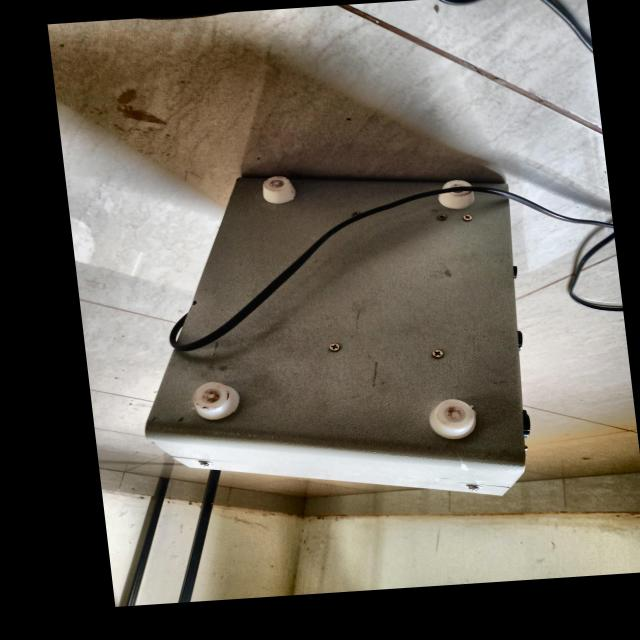Function Generator 100Khz: (109, 158, 591, 520)
